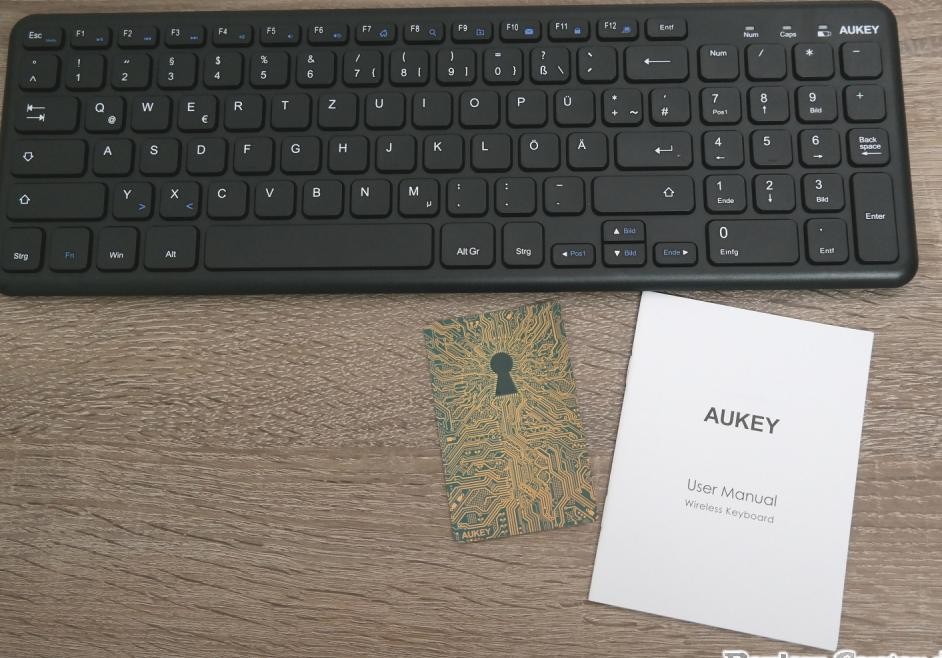0: (481, 44, 523, 82)
1: (63, 51, 103, 88)
2: (109, 50, 150, 87)
3: (155, 50, 196, 87)
4: (202, 49, 241, 85)
5: (247, 48, 288, 85)
6: (294, 47, 335, 84)
7: (341, 46, 381, 83)
8: (387, 46, 429, 83)
9: (434, 45, 476, 82)
a: (90, 135, 131, 173)
accent: (575, 43, 616, 79)
ae: (565, 129, 607, 168)
alt-left: (143, 222, 198, 270)
altgr-right: (439, 219, 495, 266)
b: (299, 177, 342, 215)
c: (205, 178, 247, 216)
caret: (17, 51, 57, 88)
comma: (444, 175, 486, 213)
d: (184, 134, 225, 172)
del: (623, 42, 688, 80)
e: (175, 91, 216, 129)
enter: (614, 128, 692, 167)
f: (231, 134, 272, 172)
g: (278, 133, 319, 171)
h: (326, 132, 367, 171)
hash: (648, 85, 690, 123)
i: (410, 88, 451, 125)
j: (373, 132, 414, 170)
k: (421, 131, 463, 169)
keyboard: (1, 1, 928, 299)
l: (469, 130, 510, 169)
m: (395, 175, 439, 215)
minus: (540, 174, 584, 212)
n: (348, 176, 390, 215)
o: (457, 87, 499, 125)
oe: (517, 130, 559, 168)
p: (505, 87, 546, 124)
plus: (600, 85, 642, 123)
point: (492, 175, 535, 213)
q: (81, 92, 124, 130)
r: (222, 91, 262, 128)
s: (137, 135, 178, 173)
shift-left: (5, 178, 105, 218)
shift-lock: (8, 136, 85, 175)
shift-right: (591, 172, 694, 212)
space: (202, 220, 433, 268)
ss: (528, 43, 569, 81)
strg-left: (1, 224, 43, 271)
strg-right: (500, 219, 544, 266)
t: (269, 90, 309, 127)
tab: (12, 93, 77, 132)
u: (362, 89, 404, 126)
ue: (551, 86, 594, 124)
v: (253, 177, 294, 216)
w: (129, 91, 169, 129)
x: (158, 178, 199, 216)
y: (111, 179, 152, 217)
z: (315, 89, 356, 127)
